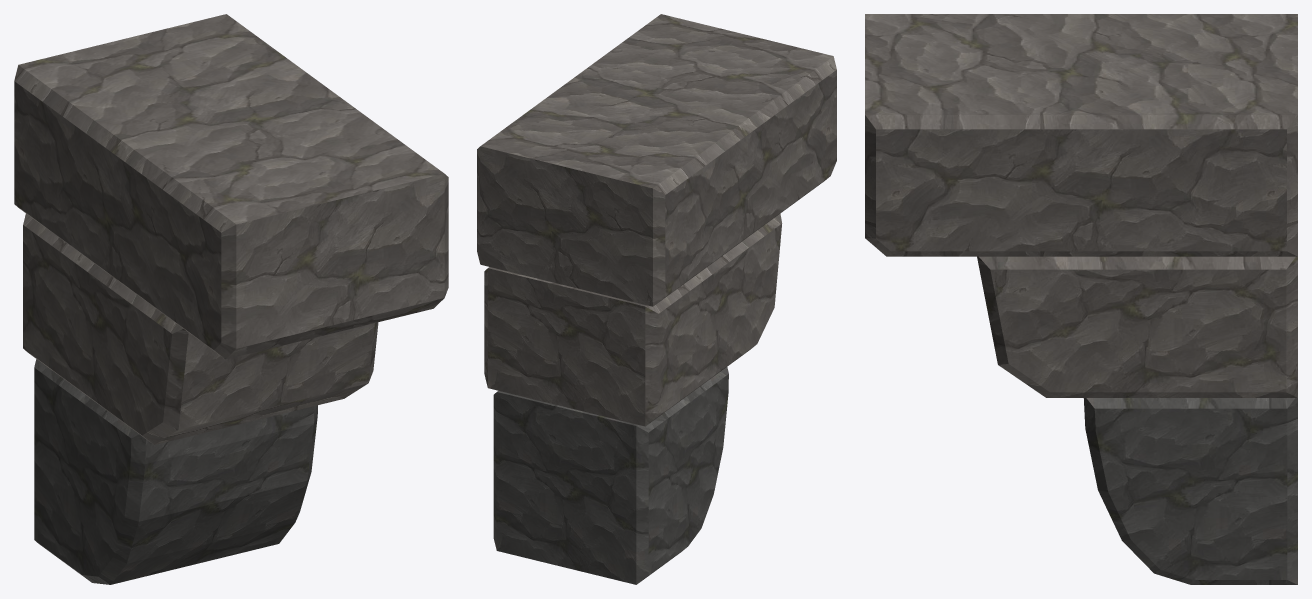
The model's file is corbel__cut_stone.glb.
The picture shows the model from 3 angles, left to right: view 1: azimuth 30°, elevation 25°; view 2: azimuth 150°, elevation 25°; view 3: azimuth 270°, elevation 25°; orthographic projection. The views are drawn at different scales.
Parts seen in each view (by area): view 1: model; view 2: model; view 3: model.
Part boxes in pixels (x1=…): model: x1=14, y1=14, x2=448, y2=584; model: x1=477, y1=14, x2=836, y2=584; model: x1=865, y1=14, x2=1297, y2=584.
Bounding box in the file's own units: 0.486 × 0.988 × 0.808.
2 materials, 2 textured.
